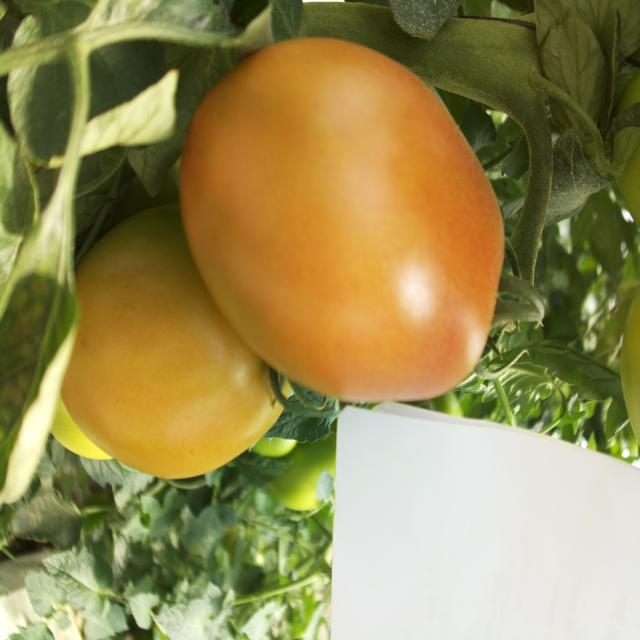sari: (153, 0, 530, 404)
